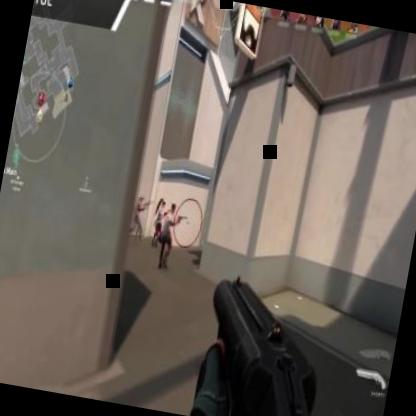enemy: (152, 202, 181, 272), (128, 191, 149, 239), (148, 198, 167, 246)
enemy_head: (170, 203, 177, 214), (138, 194, 144, 204), (160, 199, 166, 208)
